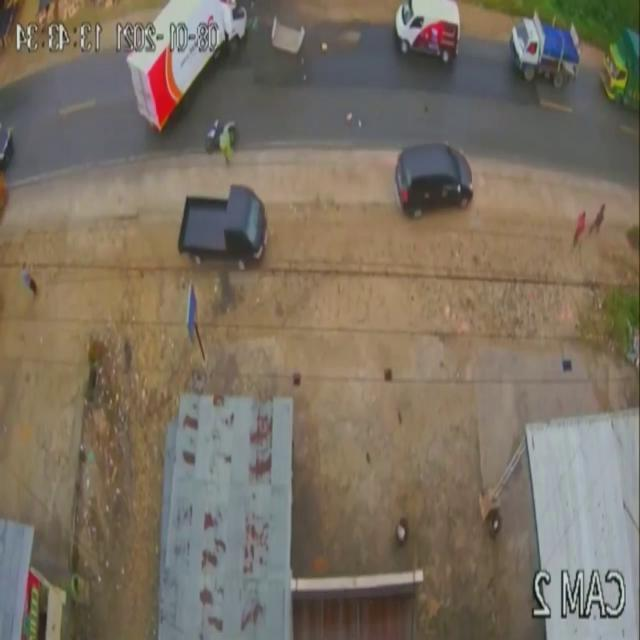accident: (123, 0, 359, 136)
